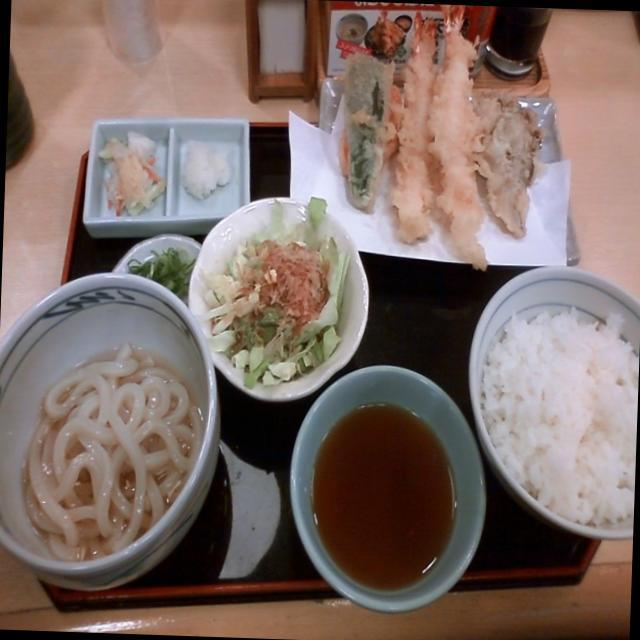Rice: (467, 283, 640, 545)
